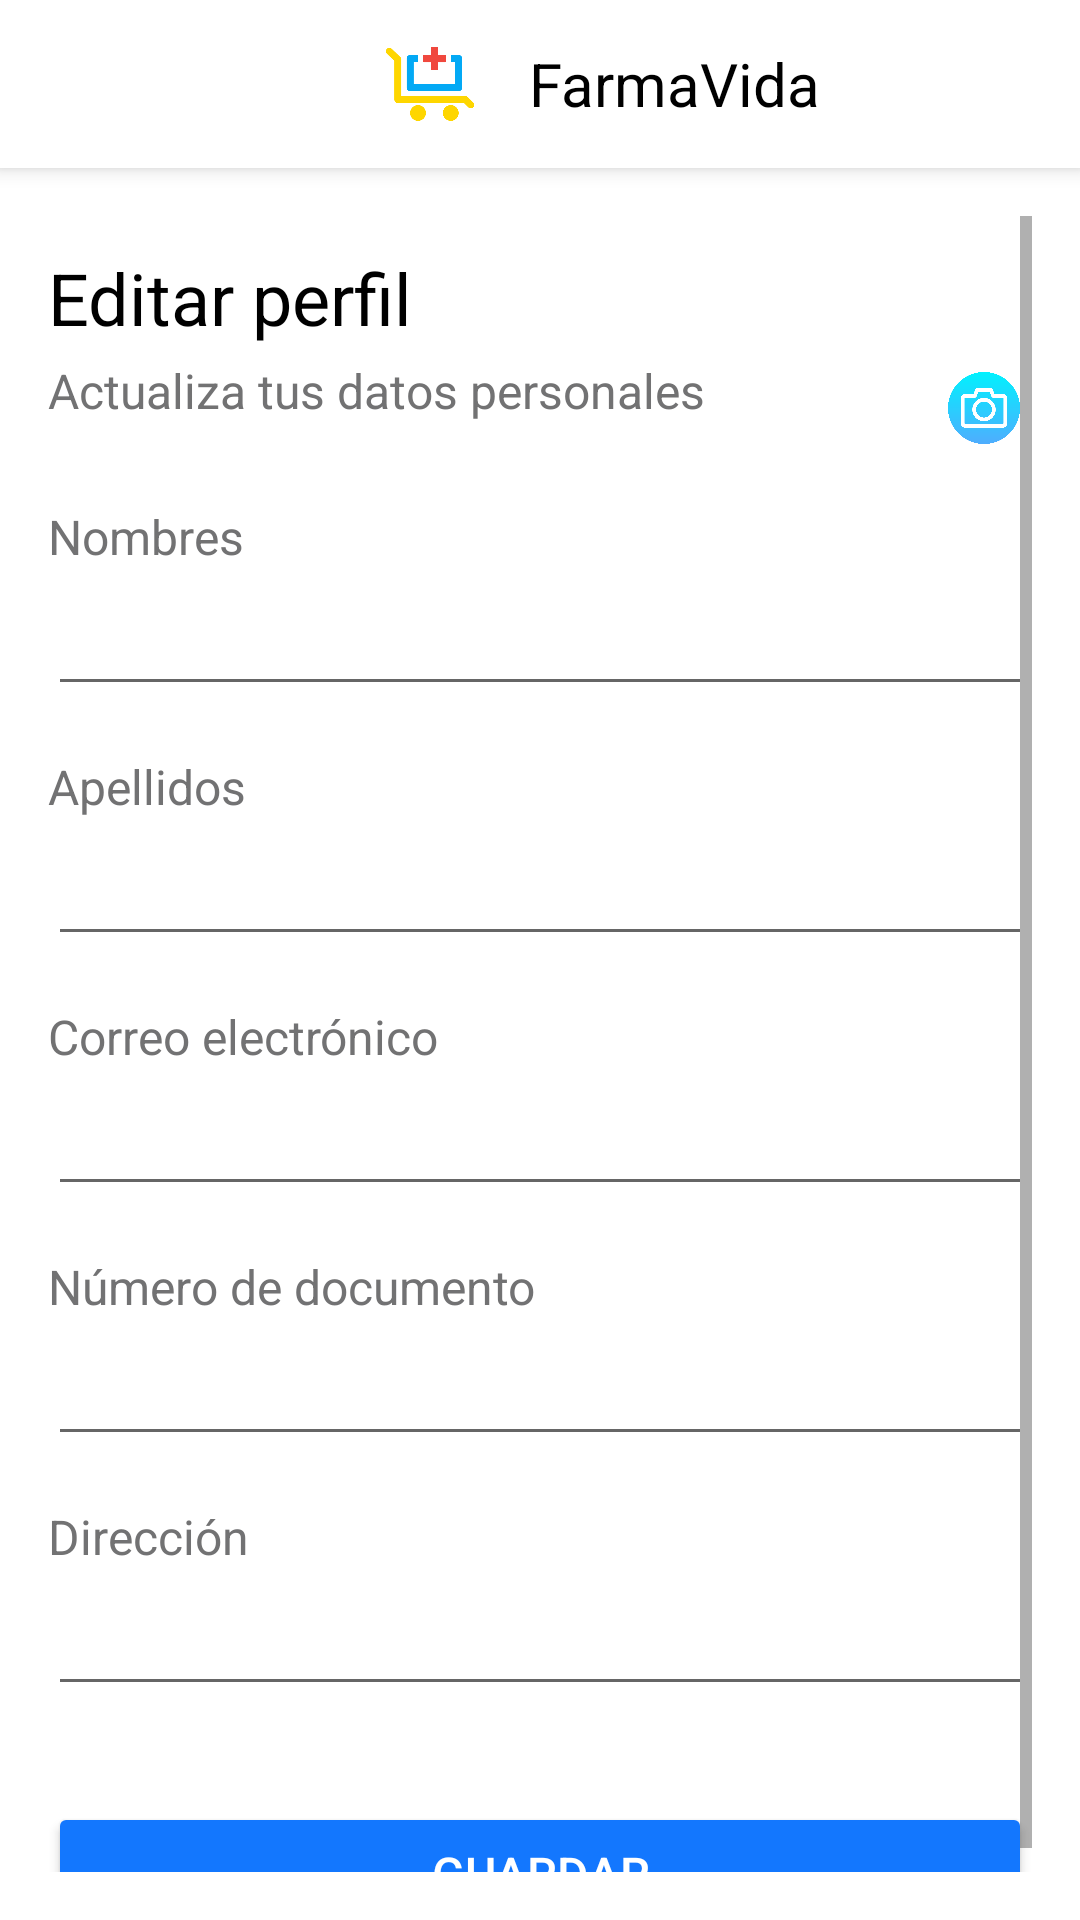

Screen size 1080x1920. Icon name, then its center in pixels as (x=x, y=y):
camara: (x=984, y=408)
pharmavida: (x=430, y=84)
